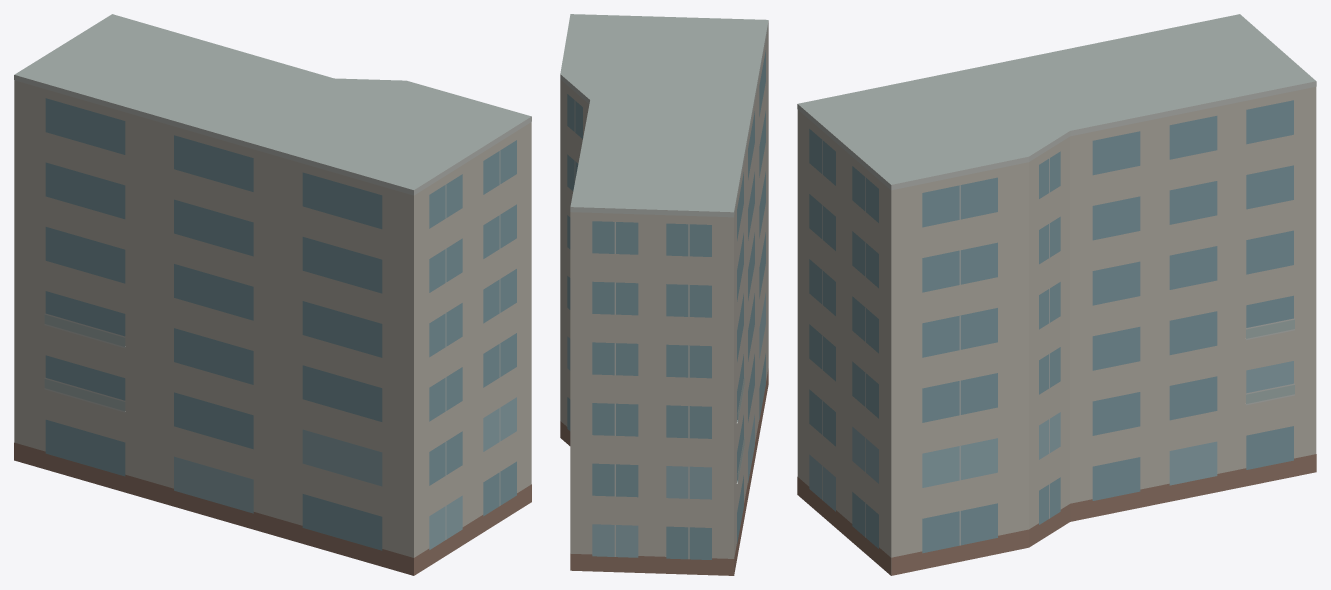
The model's file is survey-upis-32742243.glb.
The picture shows the model from 3 angles, left to right: view 1: azimuth 30°, elevation 25°; view 2: azimuth 150°, elevation 25°; view 3: azimuth 270°, elevation 25°; orthographic projection. The views are drawn at different scales.
Parts seen in each view (by area): view 1: survey-upis-32742243.tmp; view 2: survey-upis-32742243.tmp; view 3: survey-upis-32742243.tmp.
Boxes of the visible parts, bbox=[...] form: survey-upis-32742243.tmp: bbox=[14, 14, 531, 575]; survey-upis-32742243.tmp: bbox=[560, 14, 768, 575]; survey-upis-32742243.tmp: bbox=[797, 14, 1316, 575].
Bounding box in the file's own units: 16.32 × 17.4 × 20.94.
